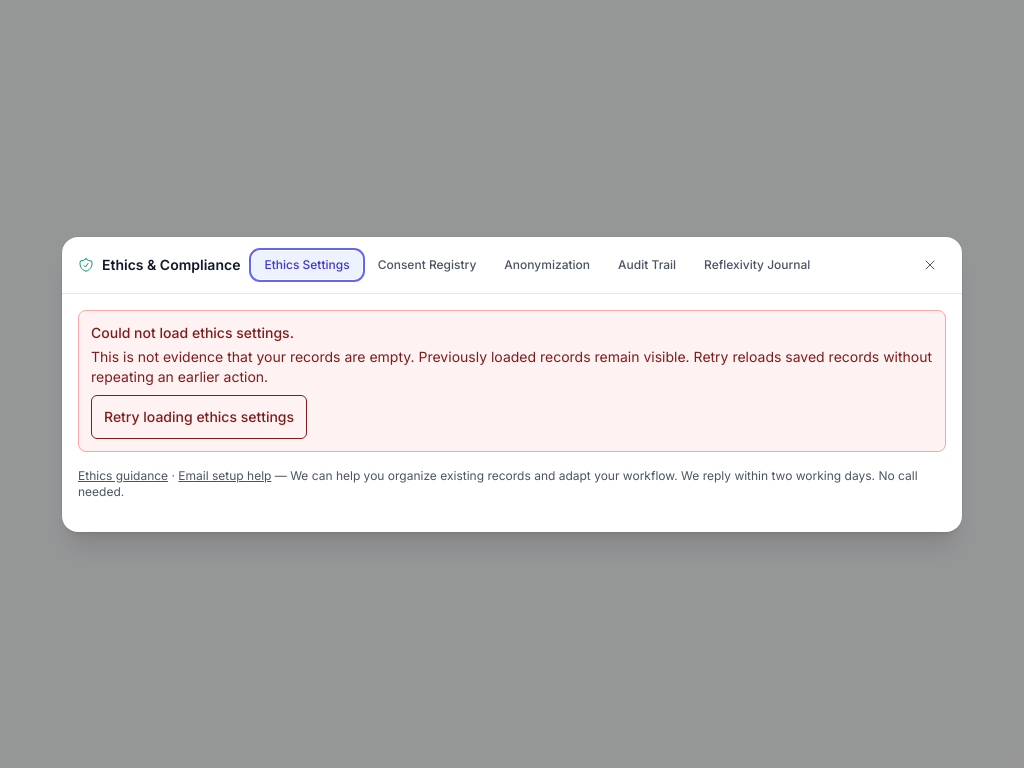
Test: ethics panel truthful reads and teaching › does not expose default settings as editable after a failed read; retry only reads
Expected: the message shows "Could not load ethics settings", [78, 310, 946, 452]
Expected: the button "Save Settings" is not shown
Click the button "Retry loading ethics settings": (199, 416) [91, 394, 307, 438]
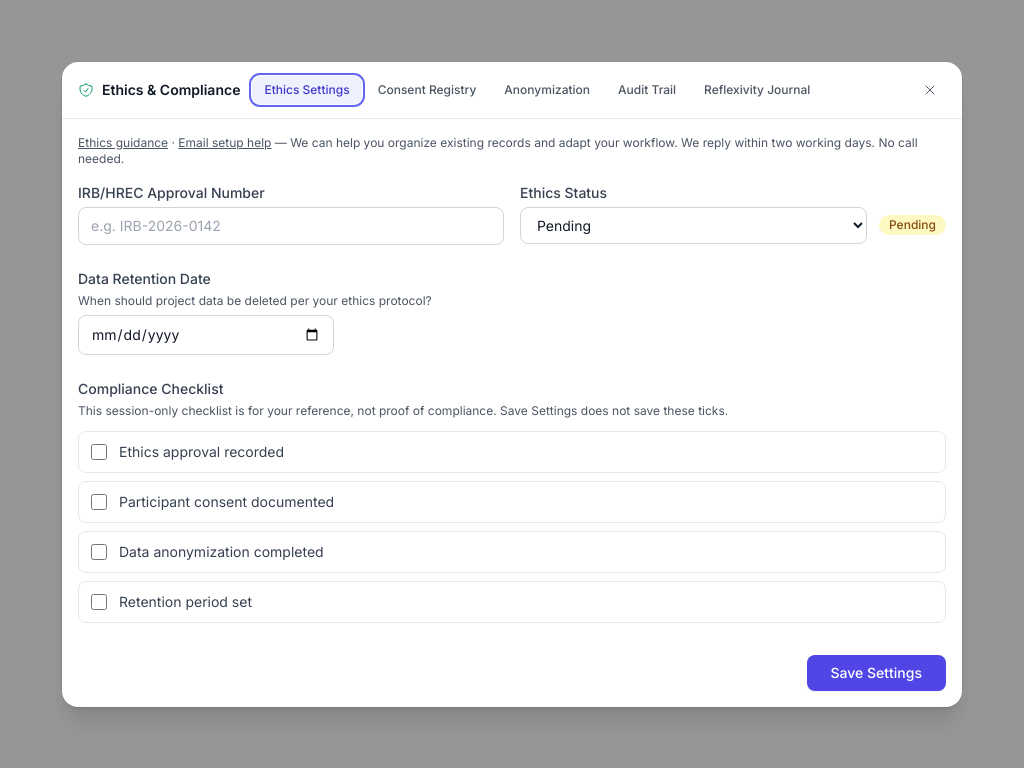
Expected: the button "Save Settings" is enabled, [807, 654, 946, 690]
